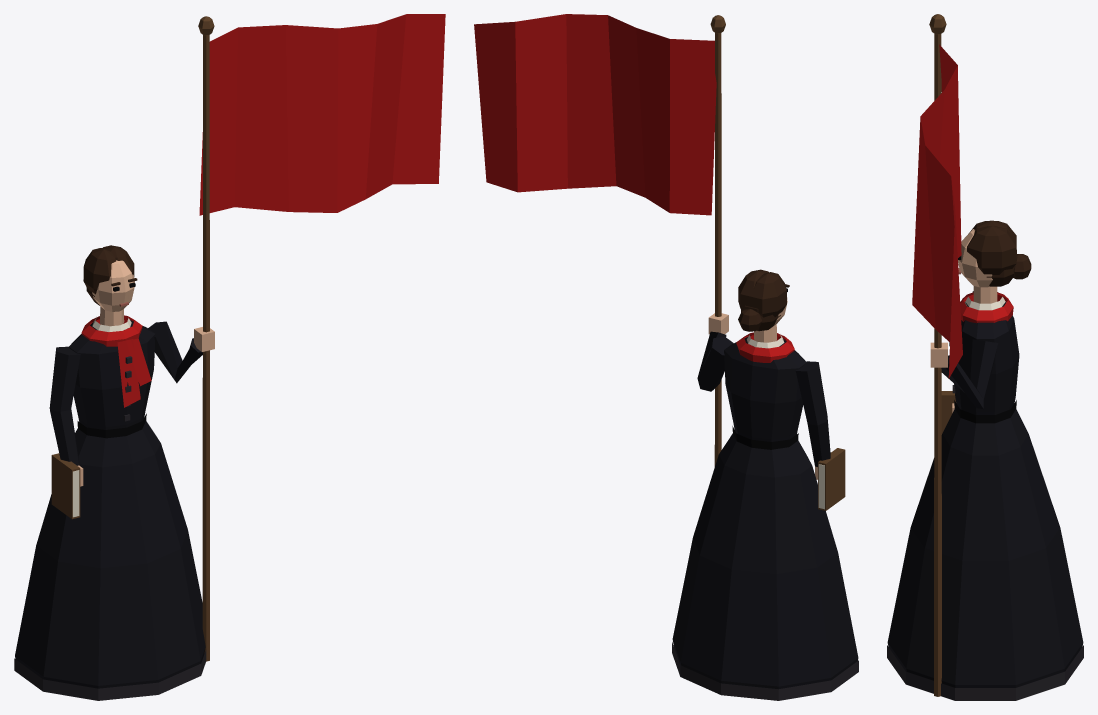
The model's file is louise_michel.glb.
3 renders of one model, left to right at view 1: azimuth 30°, elevation 25°; view 2: azimuth 150°, elevation 25°; view 3: azimuth 270°, elevation 25°, orthographic. The views are drawn at different scales.
Visible parts, largest first — view 1: louise, drapeau; view 2: louise, drapeau; view 3: louise, drapeau.
Part boxes in pixels (<box>): louise: <box>14,245,214,700</box>; drapeau: <box>198,14,445,661</box>; louise: <box>672,269,858,700</box>; drapeau: <box>474,14,725,466</box>; louise: <box>887,220,1083,700</box>; drapeau: <box>912,14,962,696</box>.
Bounding box in the file's own units: 1.71 × 2.61 × 0.684.
